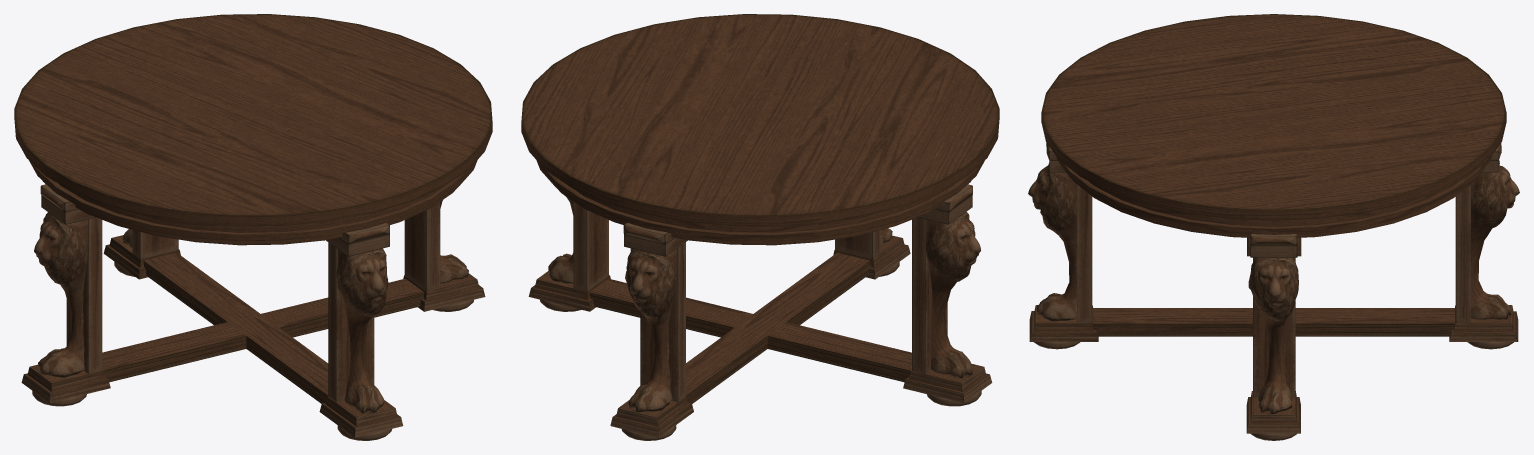
File: lion_paw_table.glb
The picture shows the model from 3 angles, left to right: view 1: azimuth 30°, elevation 25°; view 2: azimuth 150°, elevation 25°; view 3: azimuth 270°, elevation 25°; orthographic projection. The views are drawn at different scales.
Parts seen in each view (by area): view 1: final_LP:pasted__group1group5pasted__polySurface3pasted__pCu; view 2: final_LP:pasted__group1group5pasted__polySurface3pasted__pCu; view 3: final_LP:pasted__group1group5pasted__polySurface3pasted__pCu.
Part boxes in pixels (left/top/right/bottom): final_LP:pasted__group1group5pasted__polySurface3pasted__pCu: left=14, top=14, right=492, bottom=440; final_LP:pasted__group1group5pasted__polySurface3pasted__pCu: left=521, top=14, right=999, bottom=440; final_LP:pasted__group1group5pasted__polySurface3pasted__pCu: left=1028, top=14, right=1519, bottom=440.
Bounding box in the file's own units: 0.0705 × 0.0359 × 0.0705.
Materials: 1 (1 with a texture image).
